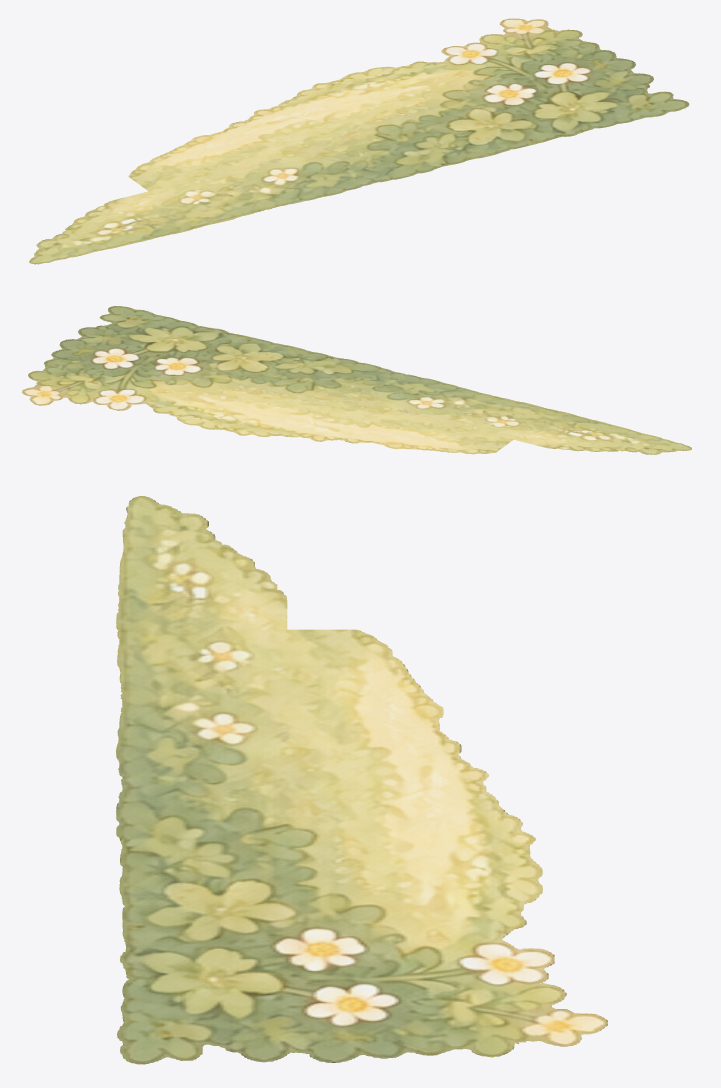
The model's file is garden_meadow.glb.
3 views of the same model, one above another, from view 1: azimuth 30°, elevation 25°; view 2: azimuth 150°, elevation 25°; view 3: azimuth 270°, elevation 25° (orthographic). The views are drawn at different scales.
Parts seen in each view (by area): view 1: meadow / painted relief; view 2: meadow / painted relief; view 3: meadow / painted relief.
Boxes of the visible parts, x1,y1,x2,y2 form: meadow / painted relief: [29, 18, 689, 264]; meadow / painted relief: [22, 306, 691, 454]; meadow / painted relief: [116, 496, 607, 1064].
Bounding box in the file's own units: 12.5 × 0.0798 × 4.51.
Materials: 1 (1 with a texture image).
